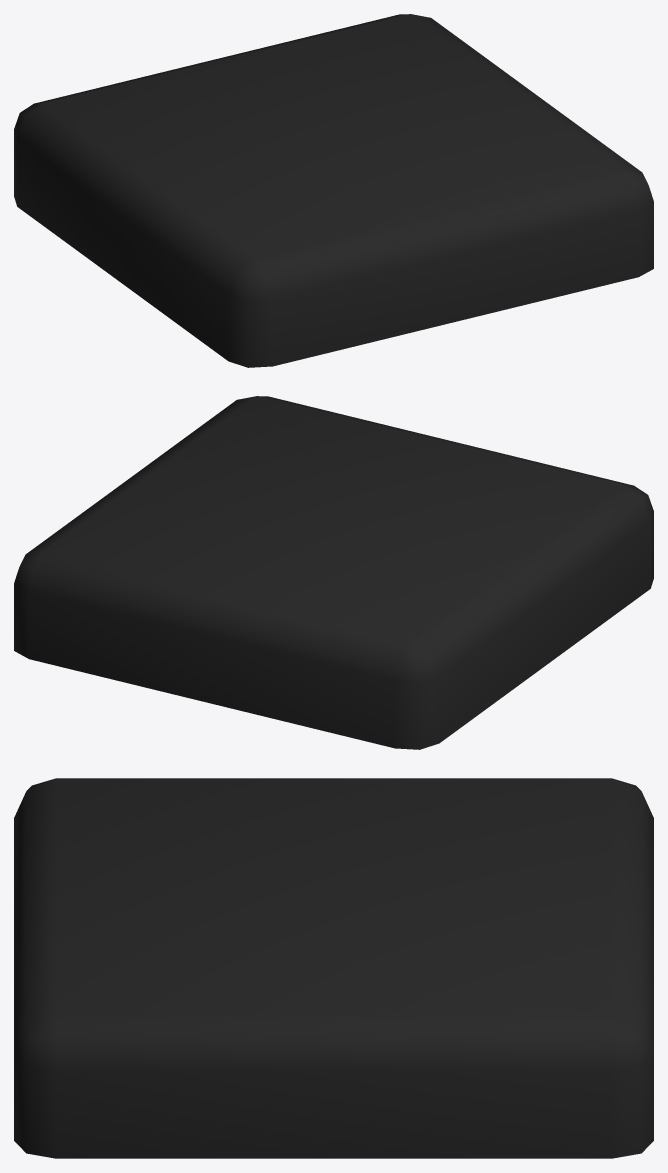
Rendered from button_square_black.glb.
The picture shows the model from 3 angles, top to bottom: view 1: azimuth 30°, elevation 25°; view 2: azimuth 150°, elevation 25°; view 3: azimuth 270°, elevation 25°; orthographic projection. The views are drawn at different scales.
Visible parts, largest first — view 1: Squareutton.013; view 2: Squareutton.013; view 3: Squareutton.013.
Part boxes in pixels (bbox=[...]): Squareutton.013: bbox=[14, 14, 653, 367]; Squareutton.013: bbox=[14, 396, 653, 749]; Squareutton.013: bbox=[14, 778, 653, 1158].
Size of what is drawn, in the model's own units: 0.1845 by 0.0403 by 0.1845.
1 material, 1 textured.
